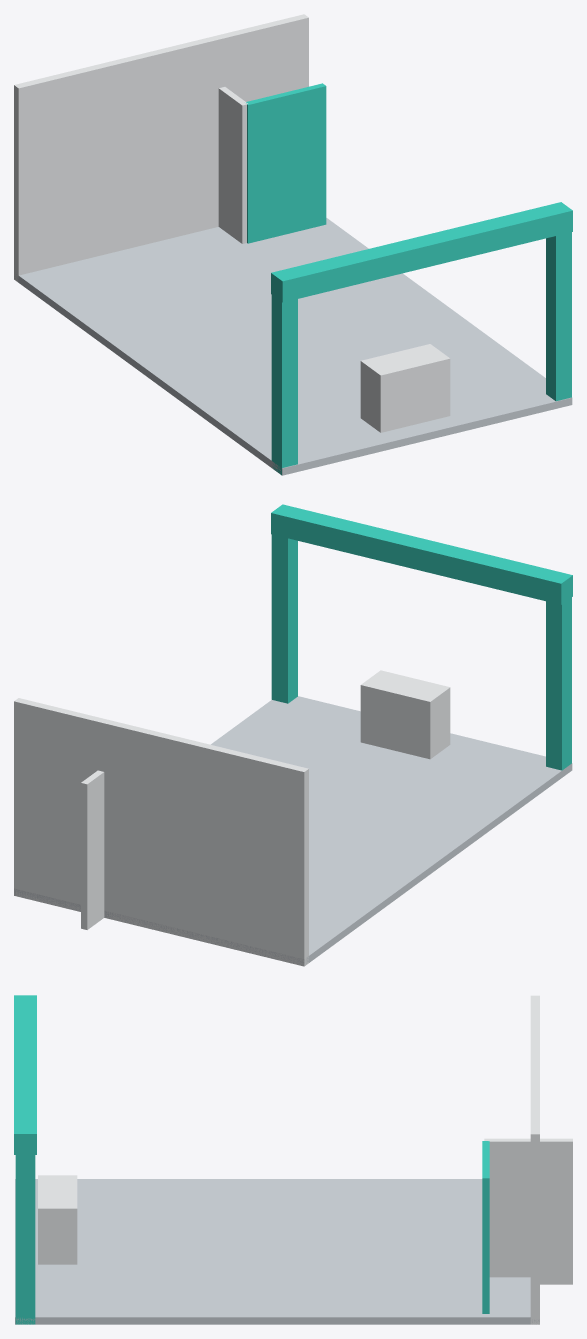
3 views of the same model, one above another, from view 1: azimuth 30°, elevation 25°; view 2: azimuth 150°, elevation 25°; view 3: azimuth 270°, elevation 25° (orthographic). The views are drawn at different scales.
Parts seen in each view (by area): view 1: Exhibition Booth Concept; view 2: Exhibition Booth Concept; view 3: Exhibition Booth Concept.
Part boxes in pixels (x1,y1,x2,y2): Exhibition Booth Concept: (14,14,572,475); Exhibition Booth Concept: (14,504,572,966); Exhibition Booth Concept: (14,995,572,1324).
Bounding box in the file's own units: 5 × 3.2 × 8.52.
